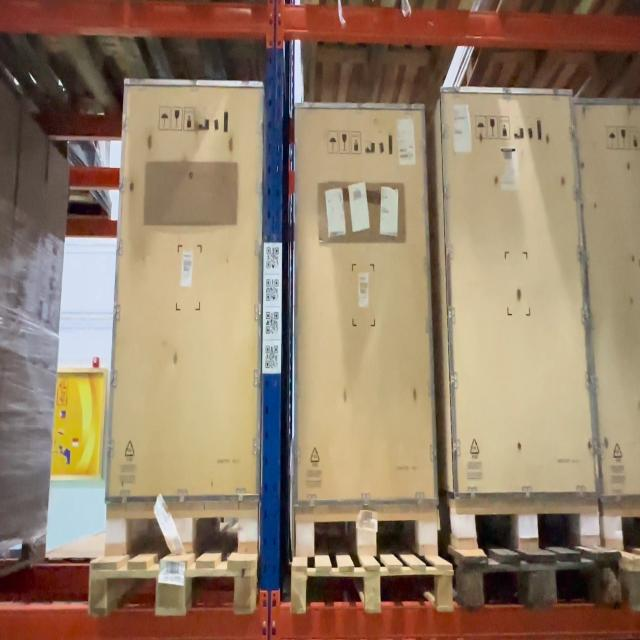box: (128, 87, 256, 491), (298, 104, 424, 501), (451, 98, 574, 491)
